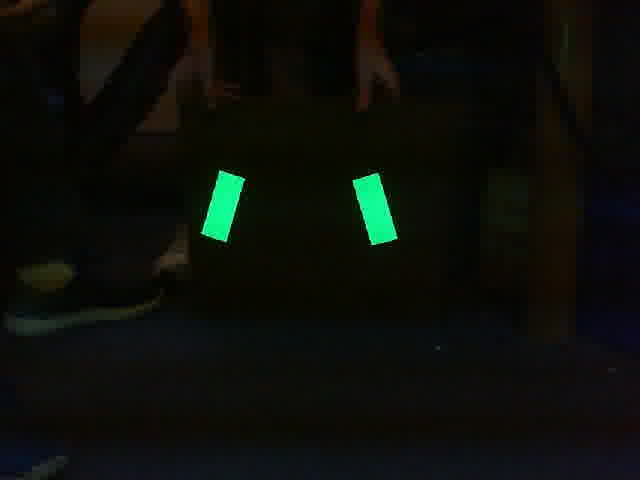target: (200, 168, 400, 249)
